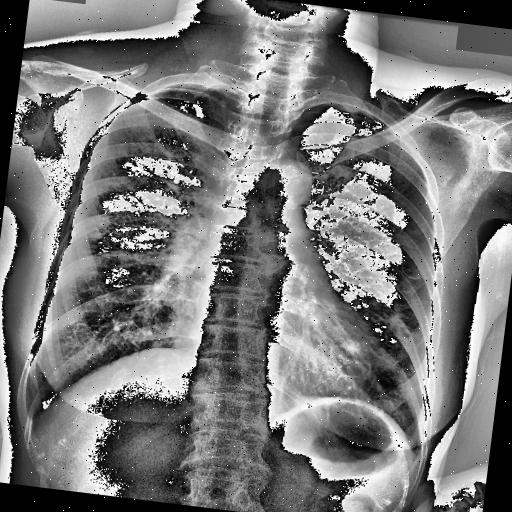0- Aortic enlargement: (257, 156, 314, 210)
11- Pleural thickening: (143, 76, 232, 104), (302, 95, 384, 125)
13- Pulmonary fibrosis: (347, 276, 417, 354), (352, 292, 408, 348), (88, 212, 140, 246)
5- ILD: (62, 189, 168, 319), (364, 295, 429, 405)
6- Infiltration: (352, 292, 408, 348)
